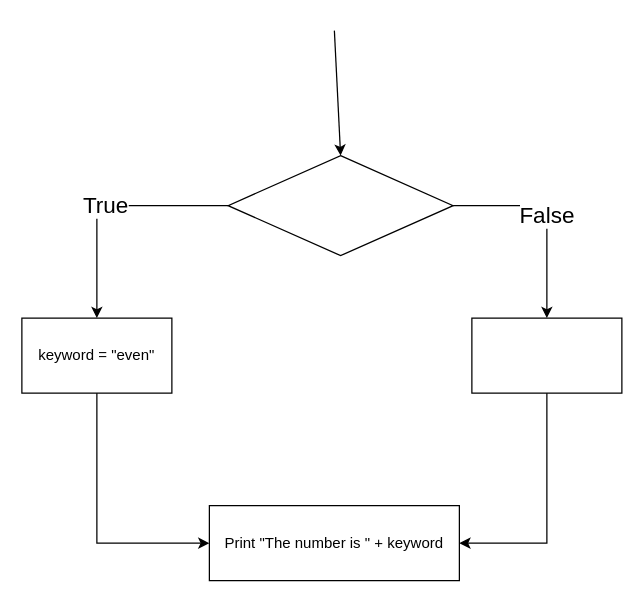
The diagram is 644 pixels wide and 603 high, and some of its shapes have lost their labels. Each missing label, with the centre of its shape:
keyword = "odd": (546,355)
SomeNumber%2 = 0: (340,205)
